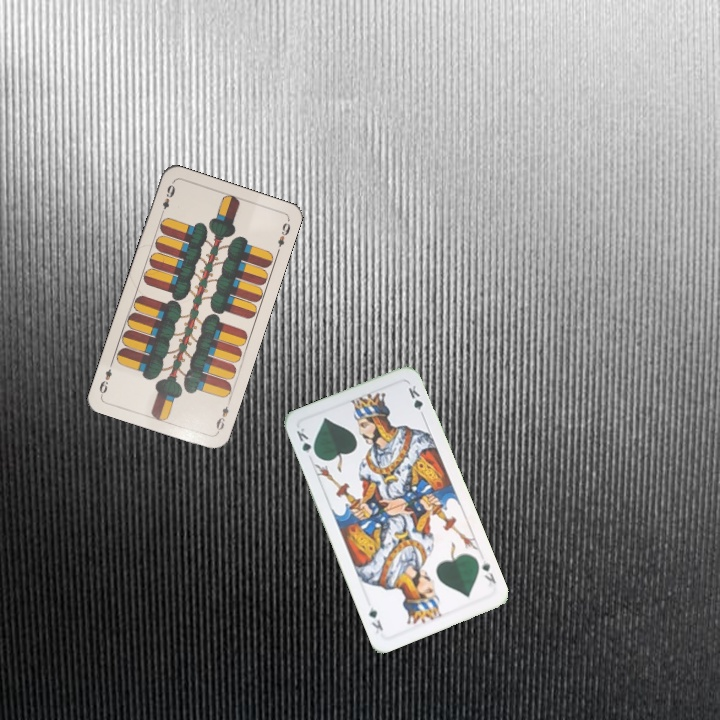E9: (212, 396, 233, 436), (157, 179, 178, 218)
GK: (292, 424, 319, 461), (478, 556, 498, 589)
